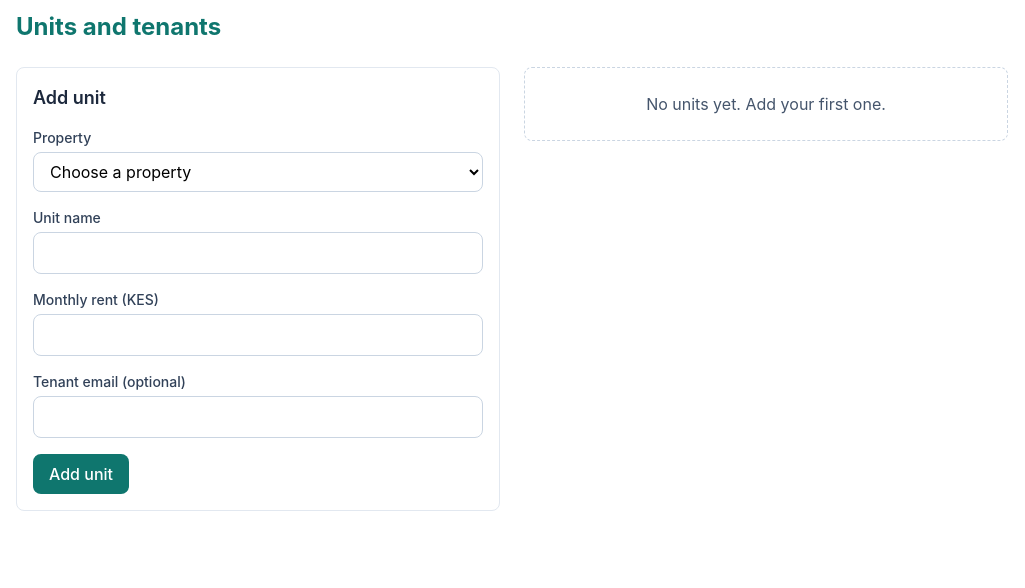
Units page › explains when the tenant email has no account
The width and height of the screenshot is (1025, 588).
Select "Sunrise" in the dropdown labelled "Property" at {"x": 258, "y": 172}, box [33, 152, 483, 192]
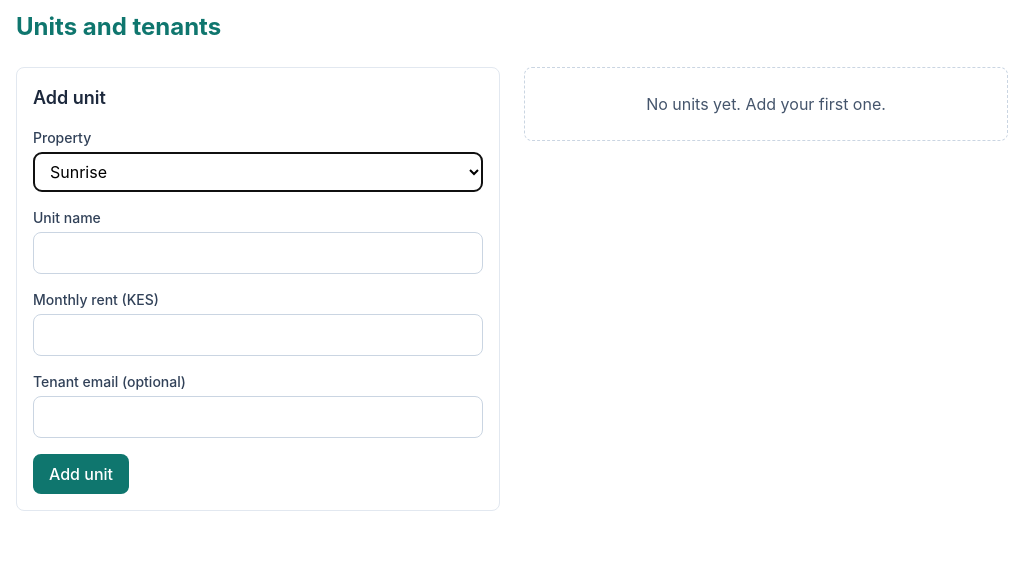
Type "A1" into the field labelled "Unit name".
click(258, 253); type("A1")  # box [33, 232, 483, 274]
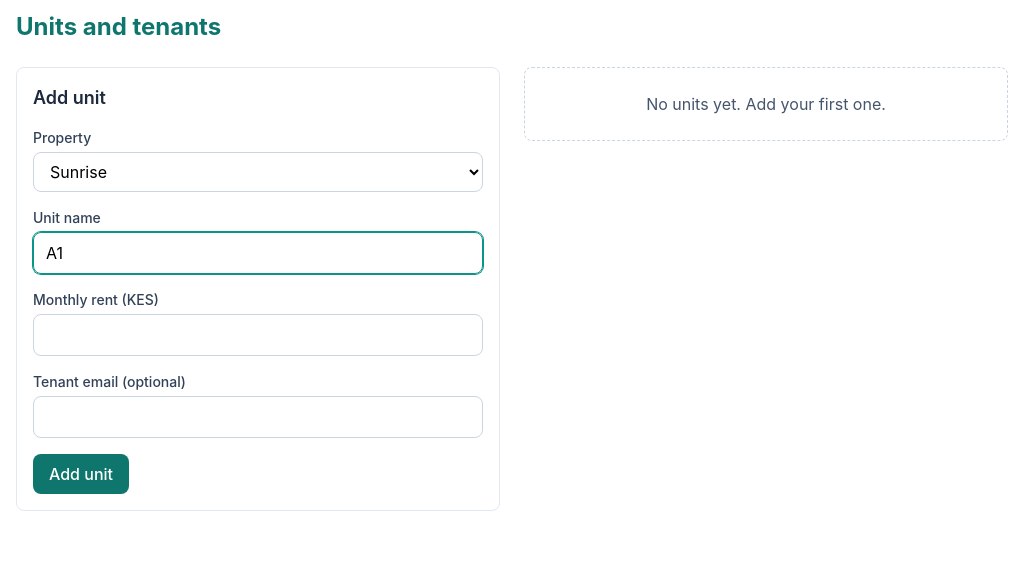
Type "15000" into the number field labelled "Monthly rent (KES)".
click(258, 335); type("15000")  # box [33, 314, 483, 356]
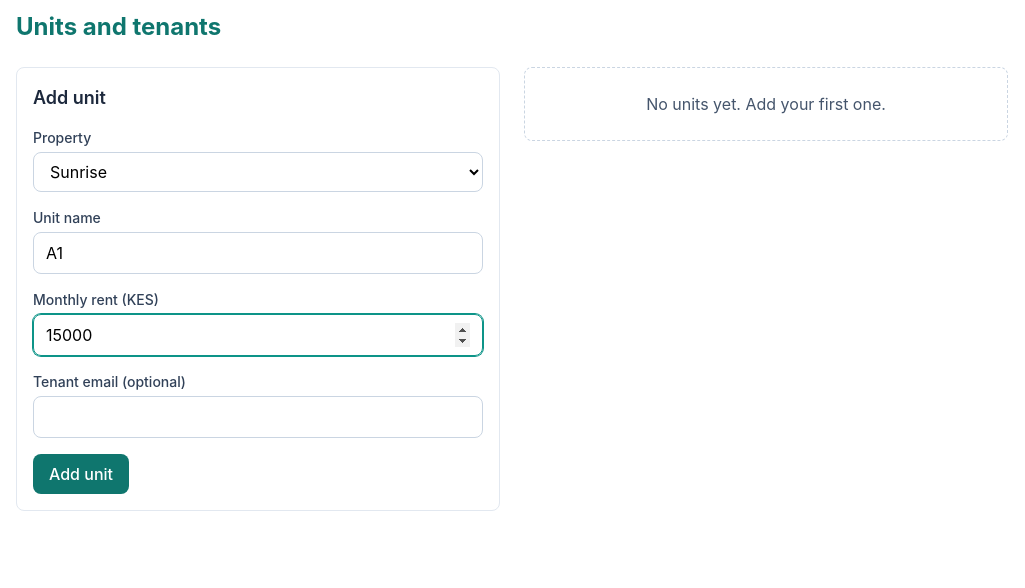
Click the button "Add unit".
click(81, 474)  # box [33, 454, 129, 494]
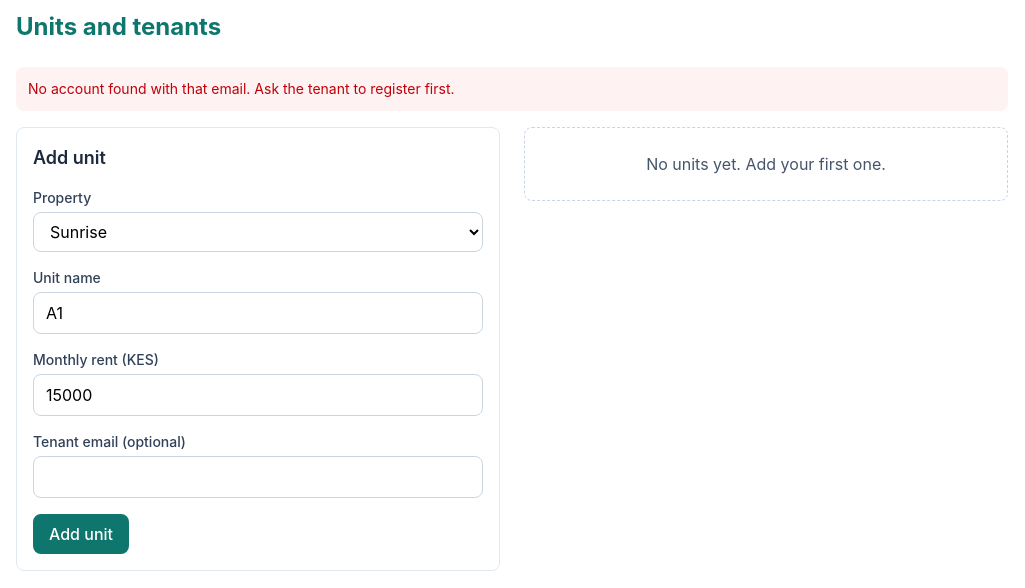
Expected: the message shows "No account found with that email", [28, 80, 454, 97]
